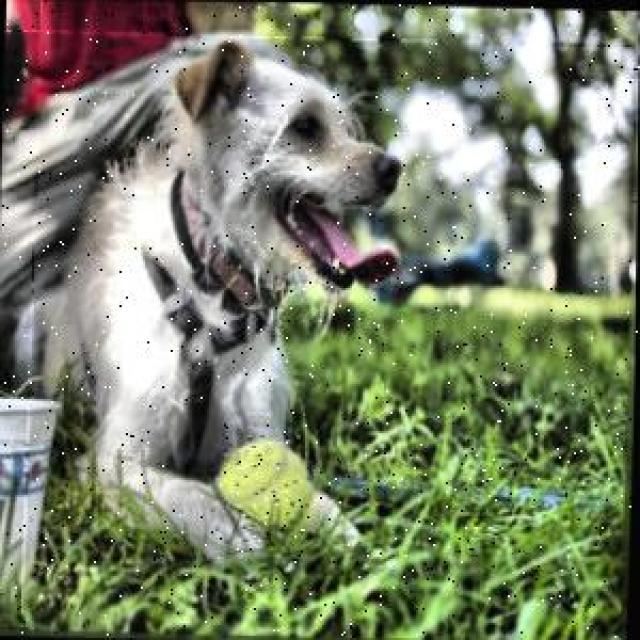tennis-ball: (209, 432, 322, 550)
